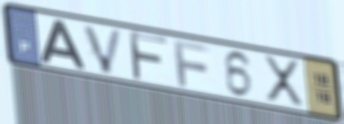6: (222, 49, 255, 99)
A: (38, 18, 88, 71)
F: (126, 28, 171, 83), (171, 38, 214, 90)
V: (80, 22, 127, 76)
X: (261, 53, 307, 111)
